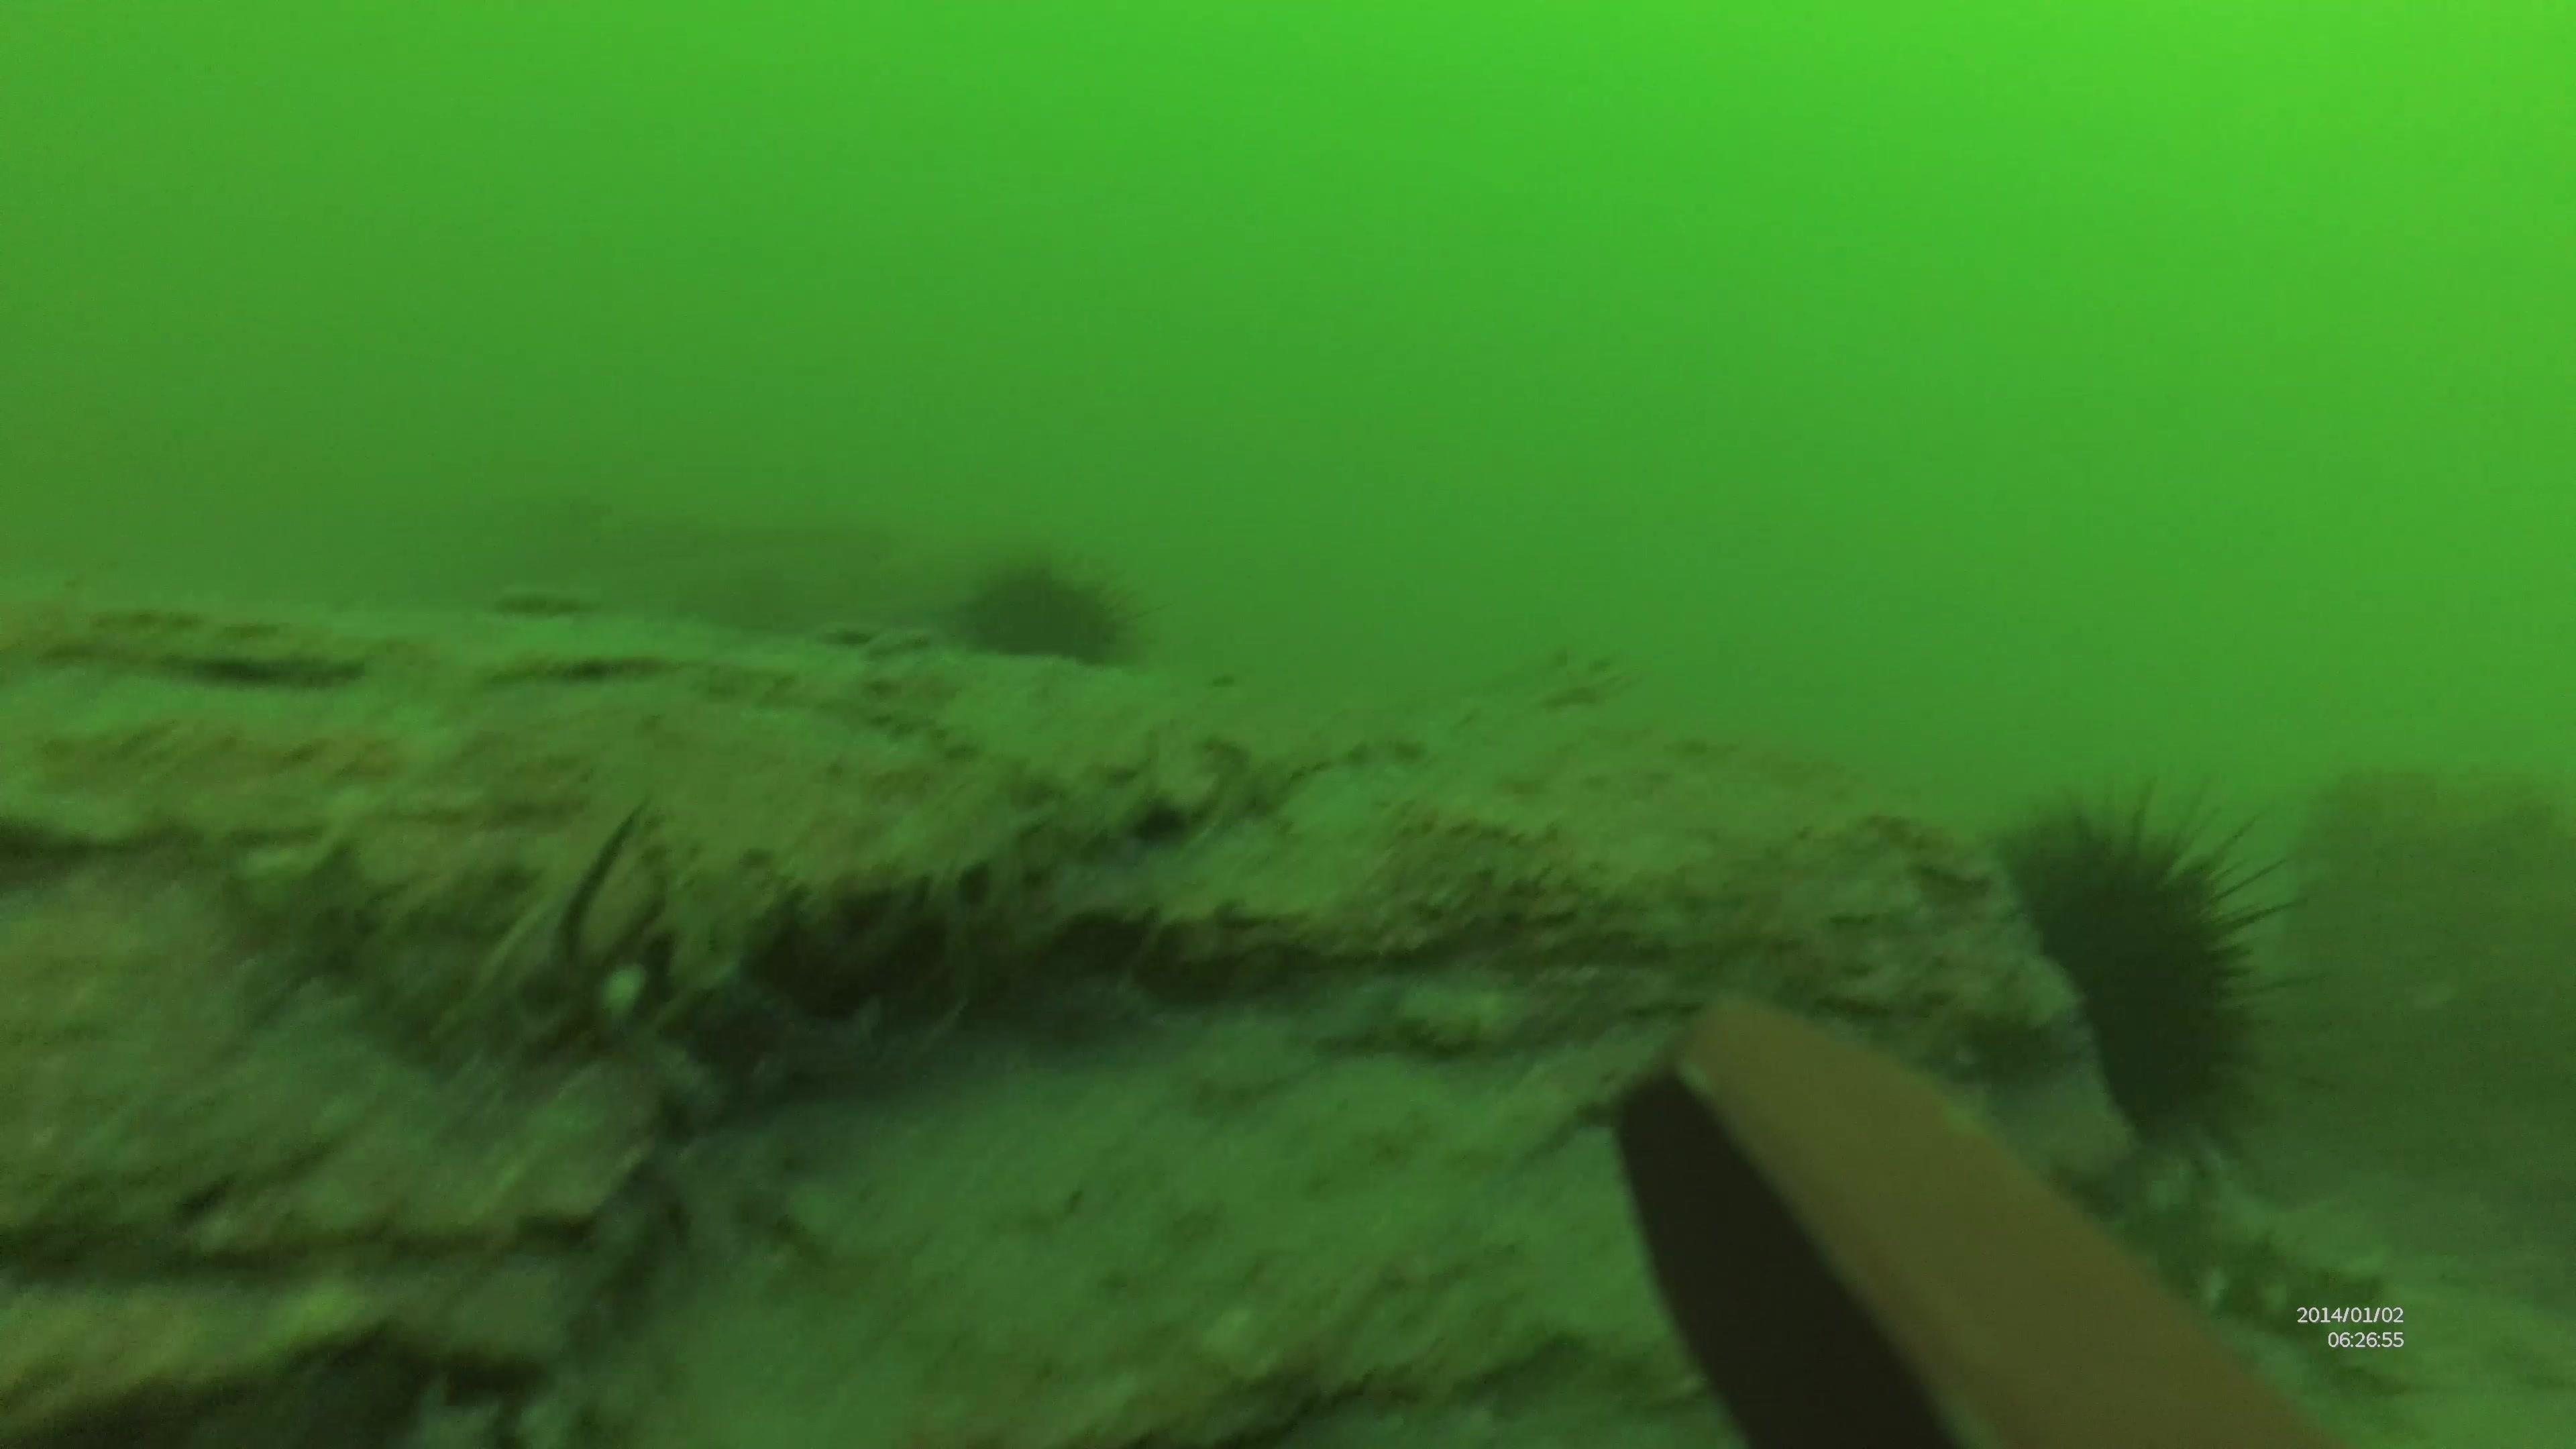echinus: (1980, 775, 2312, 1171), (952, 545, 1152, 678)
holothurian: (2038, 1150, 2404, 1343)
scallop: (18, 580, 380, 692)
